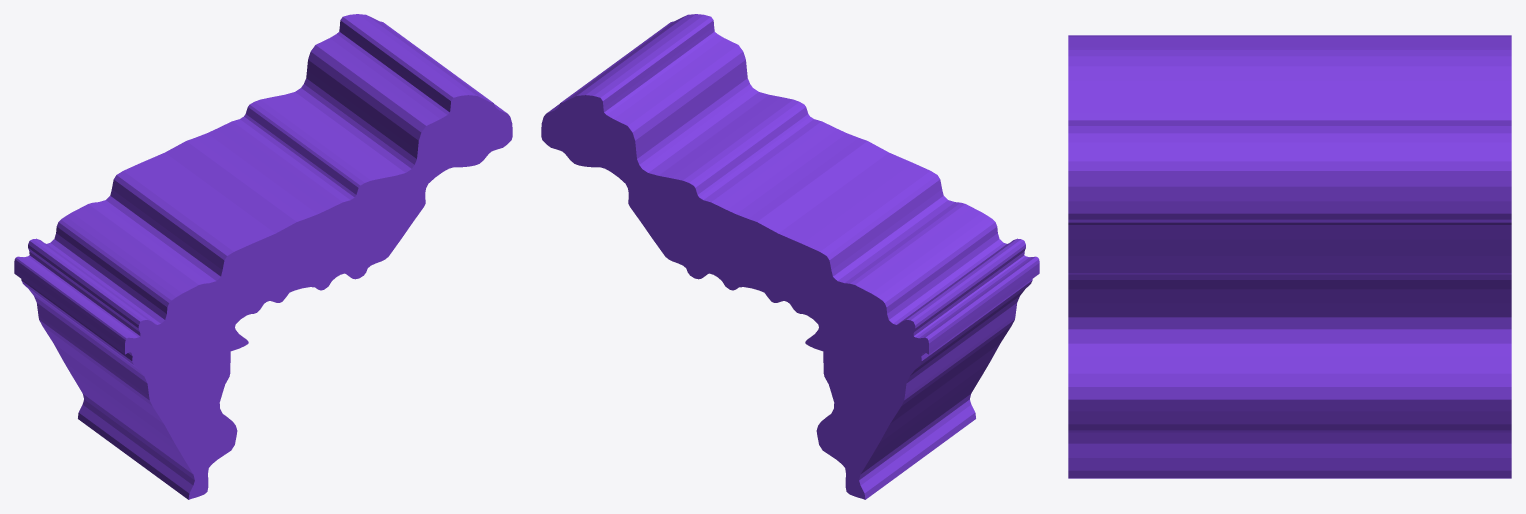
The model's file is dosdemayo.glb.
3 views of the same model, side by side, from view 1: azimuth 30°, elevation 25°; view 2: azimuth 150°, elevation 25°; view 3: azimuth 270°, elevation 25° (orthographic). The views are drawn at different scales.
Visible parts, largest first — view 1: dosdemayo; view 2: dosdemayo; view 3: dosdemayo.
Part boxes in pixels (bbox=[...]): dosdemayo: bbox=[14, 14, 512, 499]; dosdemayo: bbox=[541, 14, 1039, 499]; dosdemayo: bbox=[1068, 35, 1511, 478].
Bounding box in the file's own units: 2.69 × 2.24 × 1.33.
